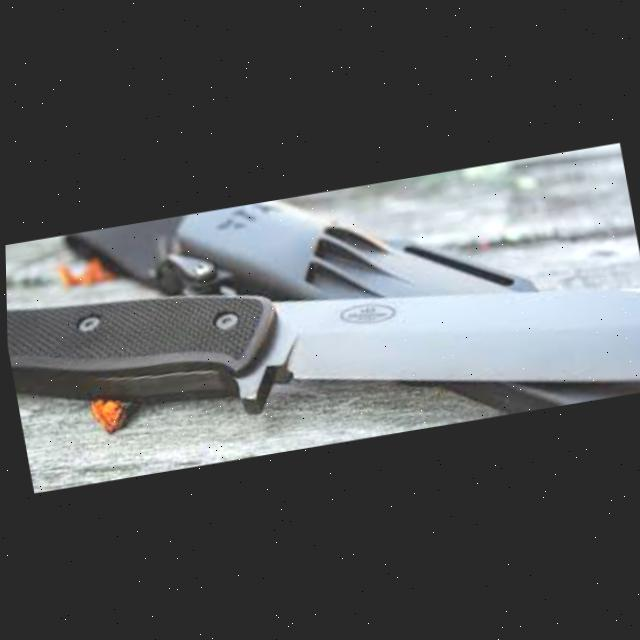Knife: (4, 198, 640, 489)
